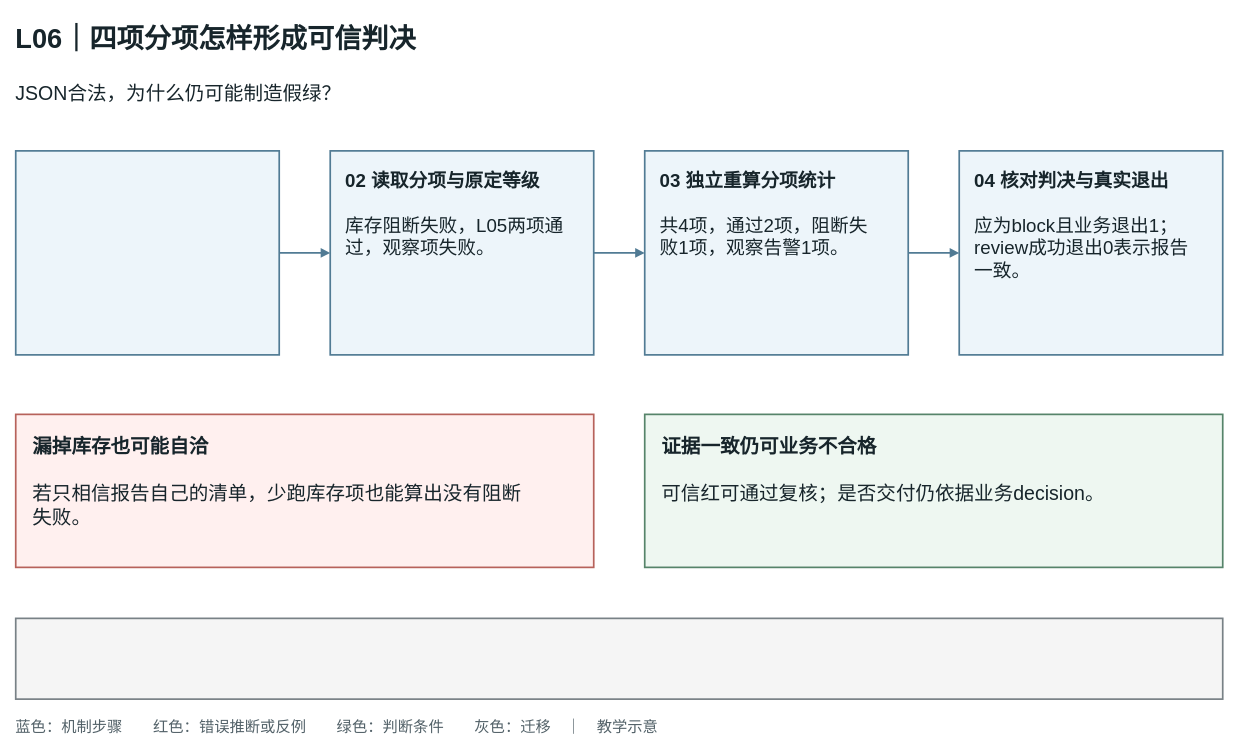
Image size: 1238x756. Some labels were removed from this diagram. Each missing label, with the box of its shape:
01 核对事先约定的身份 all集合必须有库存、L05 收货、L05范围和 help_image。: (14, 150, 280, 355)
新增要求先确认必需项 先更新约定清单再登记检查，不能以报告自报身份代替任务要求。: (14, 617, 1223, 700)
